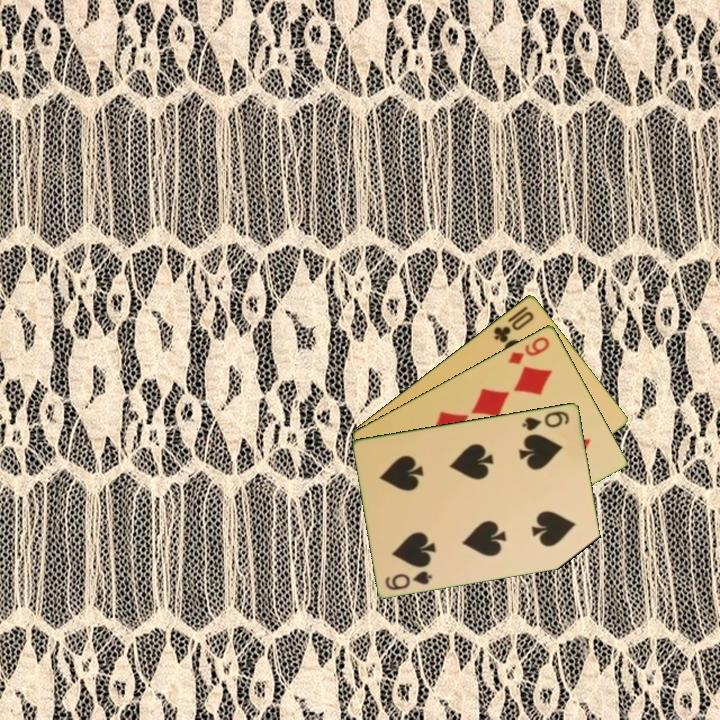10c: (490, 307, 537, 345)
6s: (519, 407, 572, 433), (382, 567, 435, 593)
9d: (504, 333, 553, 367)
